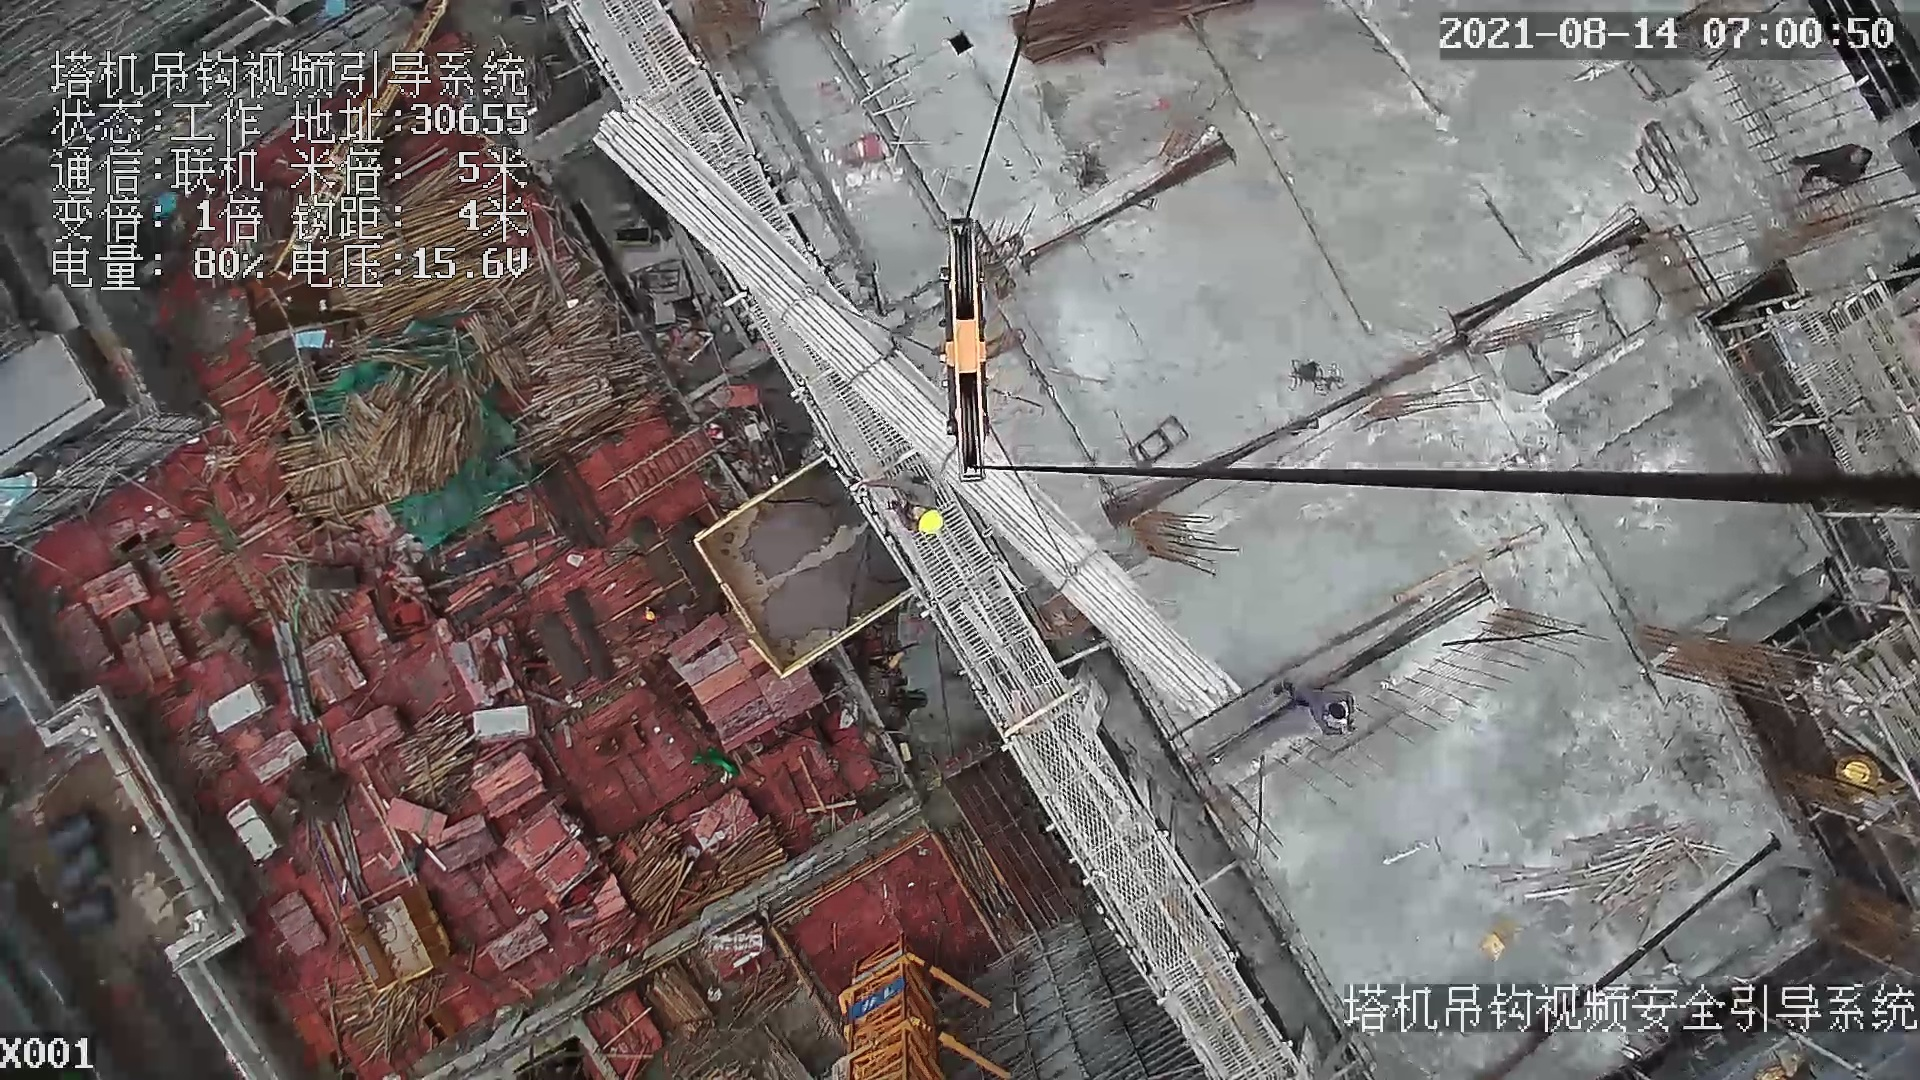helmet: (908, 498, 948, 545)
hook: (928, 212, 1000, 494)
person: (836, 477, 951, 544), (1274, 680, 1362, 741)
